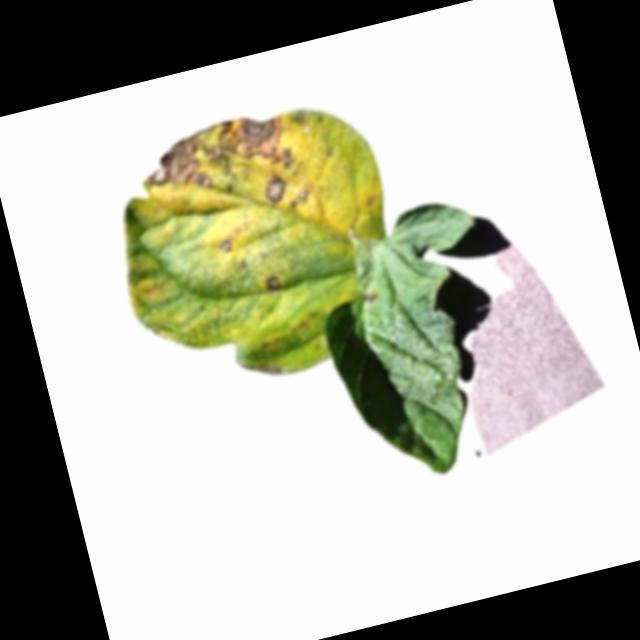Early_blight: (134, 103, 300, 203), (283, 185, 314, 211), (263, 170, 287, 197), (265, 272, 283, 291), (361, 288, 379, 304), (217, 235, 231, 251)
